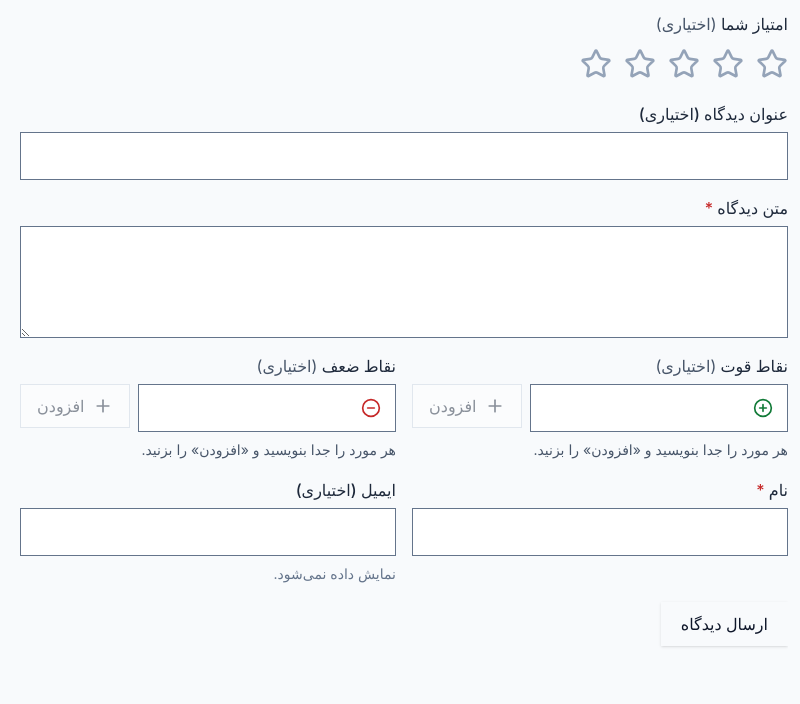
ReviewForm after the API answers › says why at the form when it fails with too many submissions (429)
This screenshot has width=800, height=704.
Type "عالی" into the text box labelled "متن دیدگاه *" at coordinates (404, 282), box [20,226,788,338]
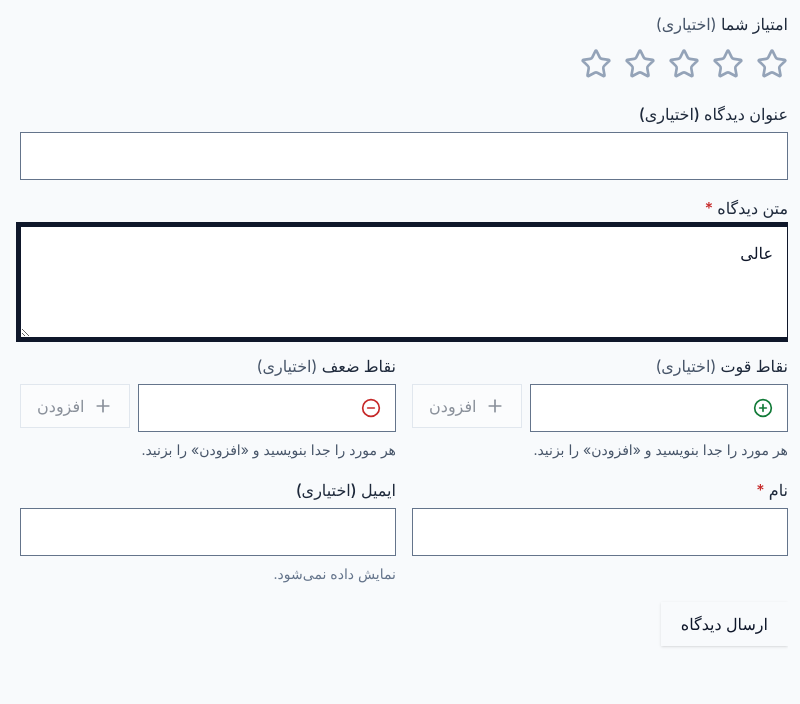
Type "سارا" into the field named "نام (" at coordinates (600, 532), box [413,509,787,555]
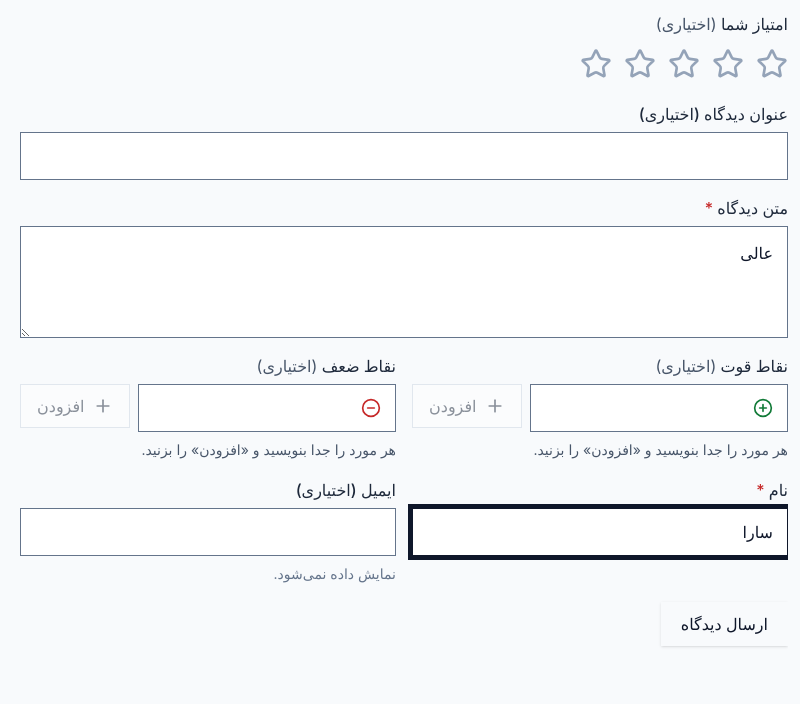
Click the button "ارسال دیدگاه" at coordinates (724, 624), box [661,602,788,646]
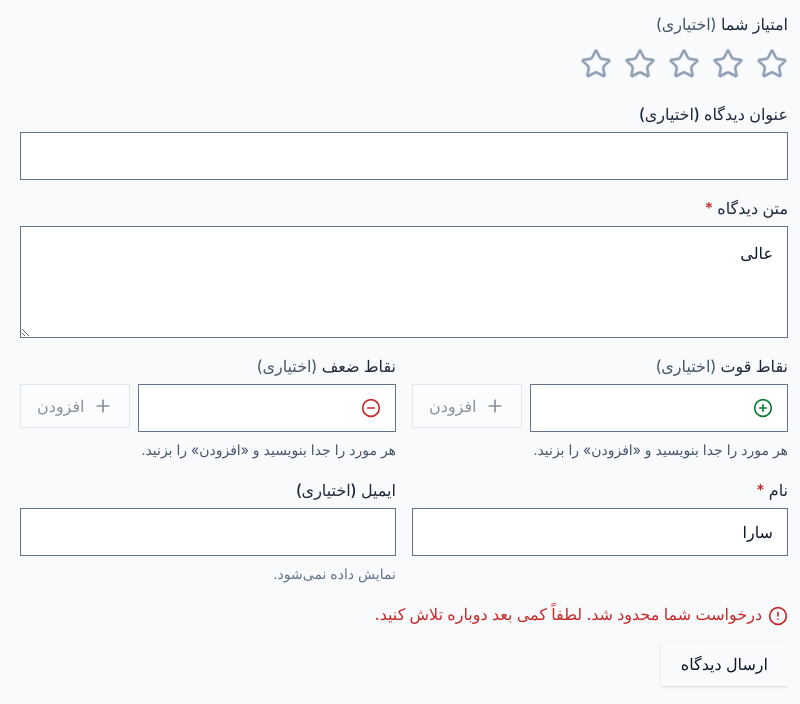
Expected: the button "ارسال دیدگاه" is enabled, [661,642,788,686]
Expected: the message reads "درخواست شما محدود شد. لطفاً کمی بعد دوباره تلاش کنید.", [375,604,762,624]
